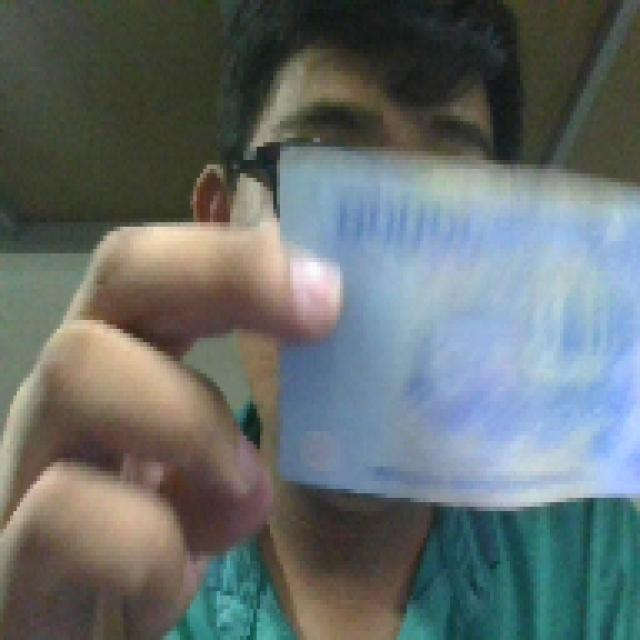20 000 VND: (266, 138, 636, 516)
